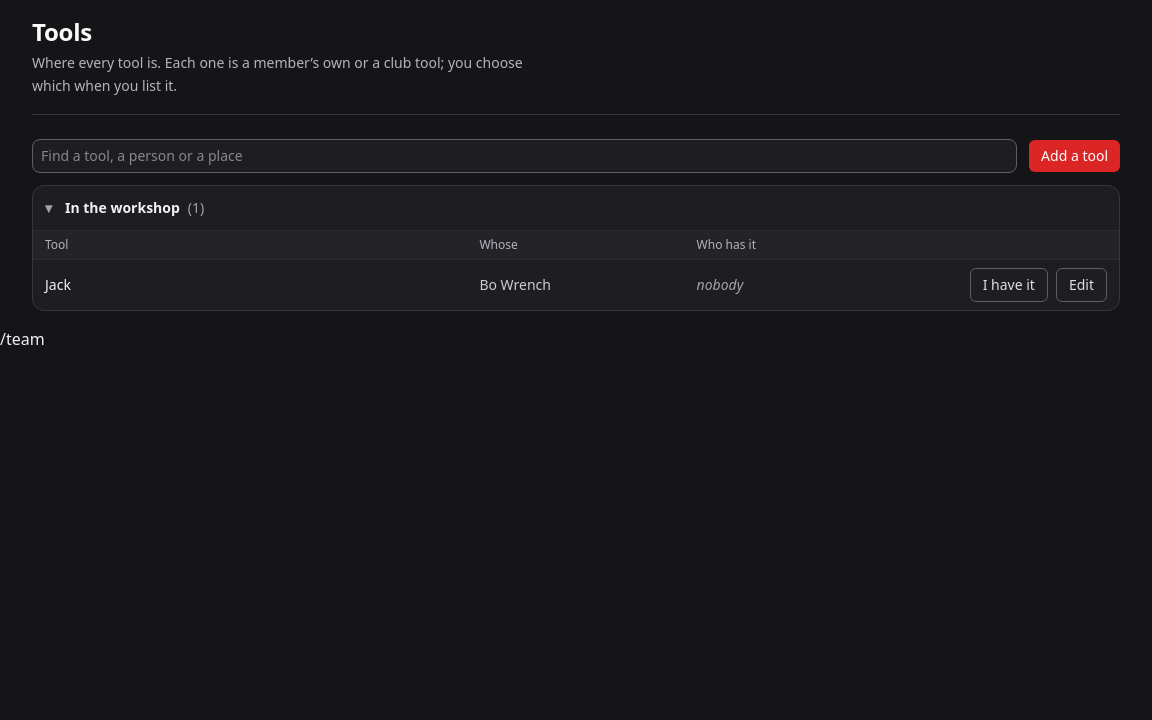
Team › lets any full member take a free tool, and edit it, whoever owns it
Click the button "I have it": {"x": 1009, "y": 284} [970,268,1048,302]
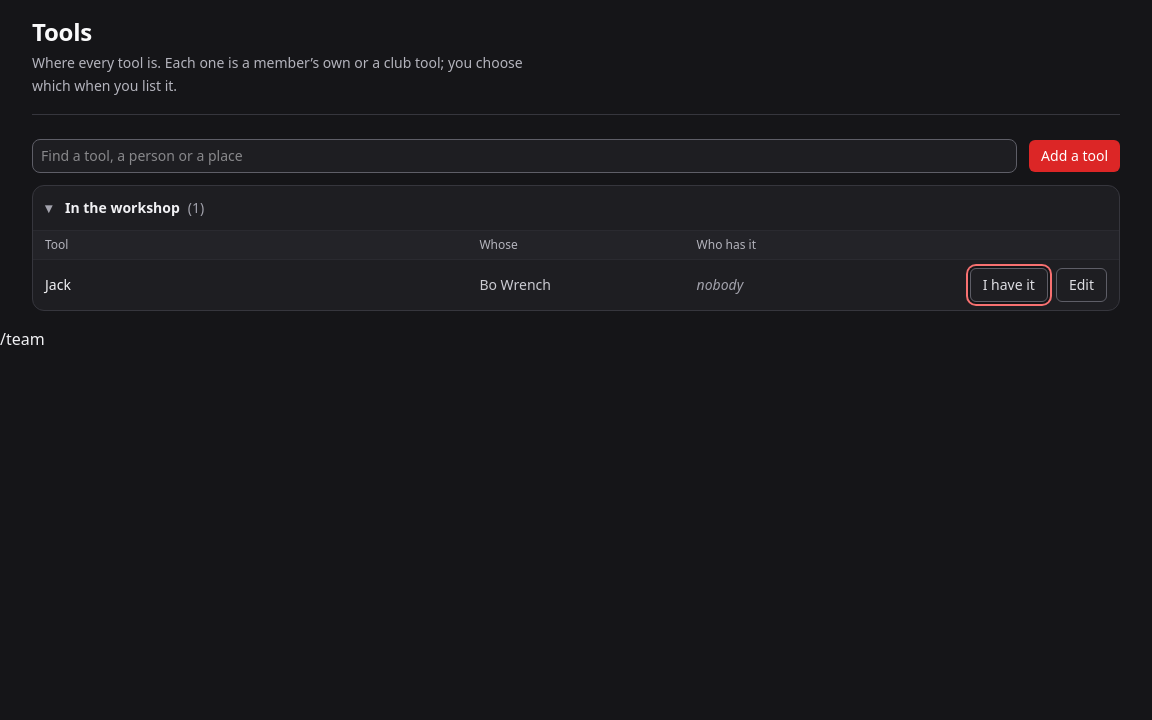
Click the button with aria-label "Edit Jack": {"x": 1081, "y": 284} [1056,268,1107,302]
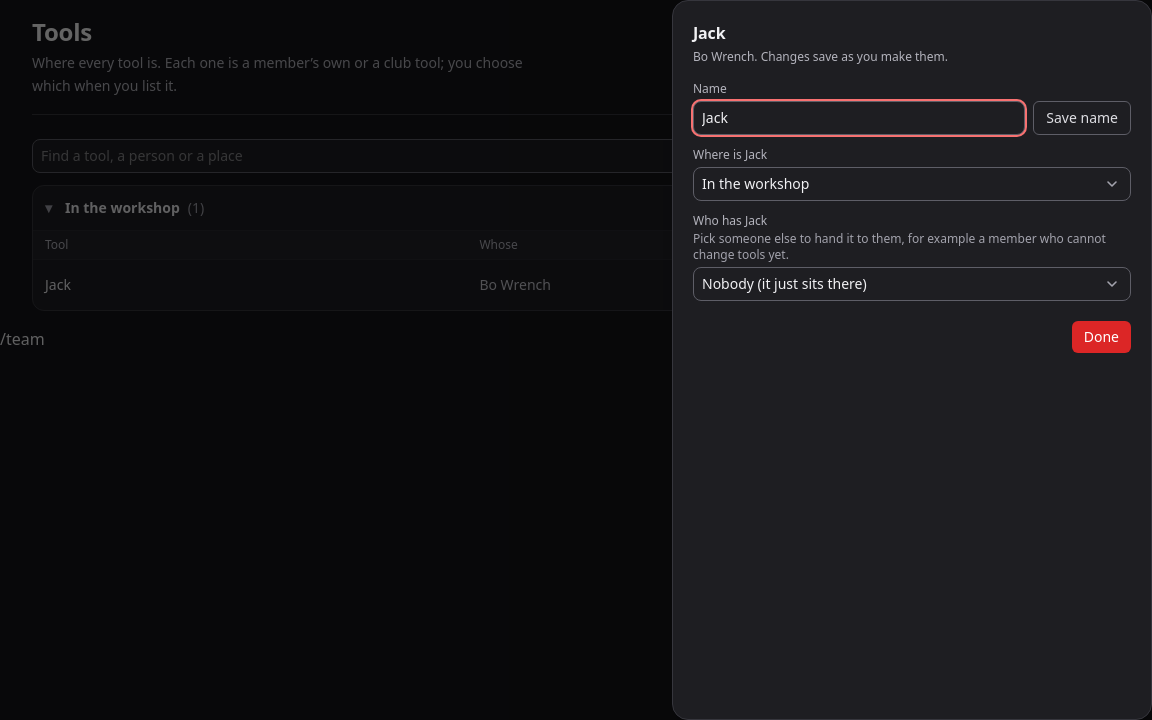
expect the dropdown labelled "Where is Jack" is shown: met, box [693,167,1131,201]
